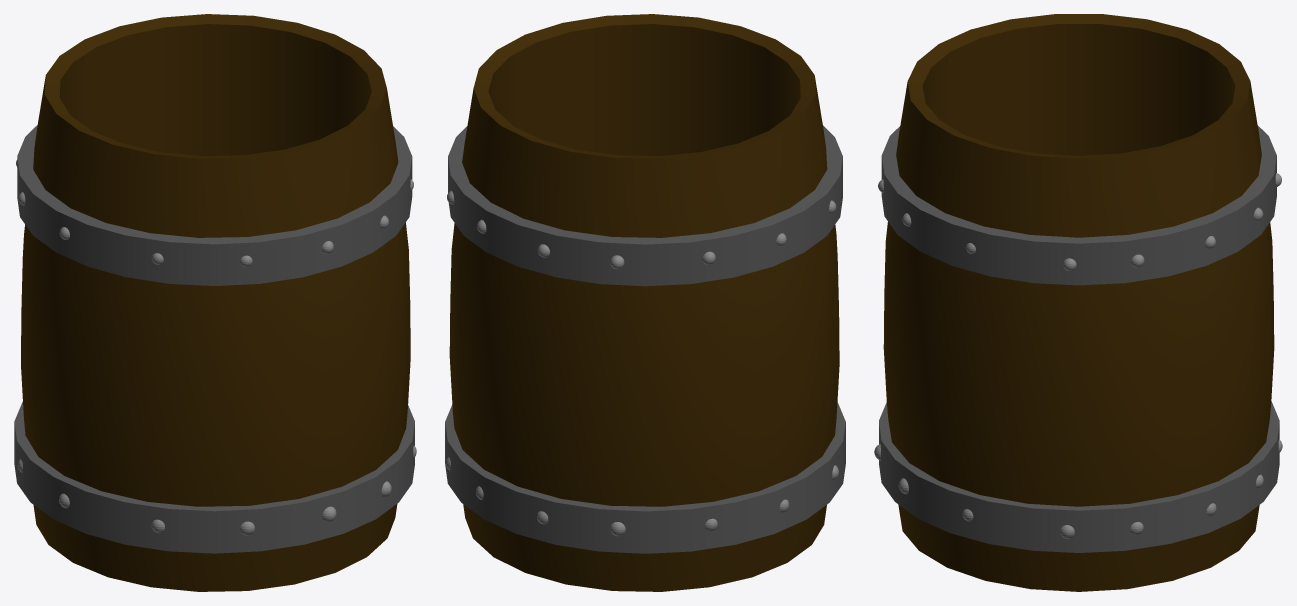
The model's file is Barrel.fbx.
3 views of the same model, side by side, from view 1: azimuth 30°, elevation 25°; view 2: azimuth 150°, elevation 25°; view 3: azimuth 270°, elevation 25° (orthographic).
Parts seen in each view (by area): view 1: Barrel_Wood, Barrel_Iron, pSphere37; view 2: Barrel_Wood, Barrel_Iron, pSphere37; view 3: Barrel_Wood, Barrel_Iron, pSphere37.
Boxes of the visible parts, x1,y1,x2,y2 form: Barrel_Wood: [21, 14, 410, 591]; Barrel_Iron: [14, 125, 414, 553]; pSphere37: [16, 160, 416, 535]; Barrel_Wood: [449, 14, 839, 591]; Barrel_Iron: [445, 125, 845, 553]; pSphere37: [446, 190, 838, 536]; Barrel_Wood: [883, 14, 1274, 591]; Barrel_Iron: [879, 125, 1279, 552]; pSphere37: [874, 173, 1282, 538].
Size of the model in its own units: 1.99 by 2.34 by 2.01.
